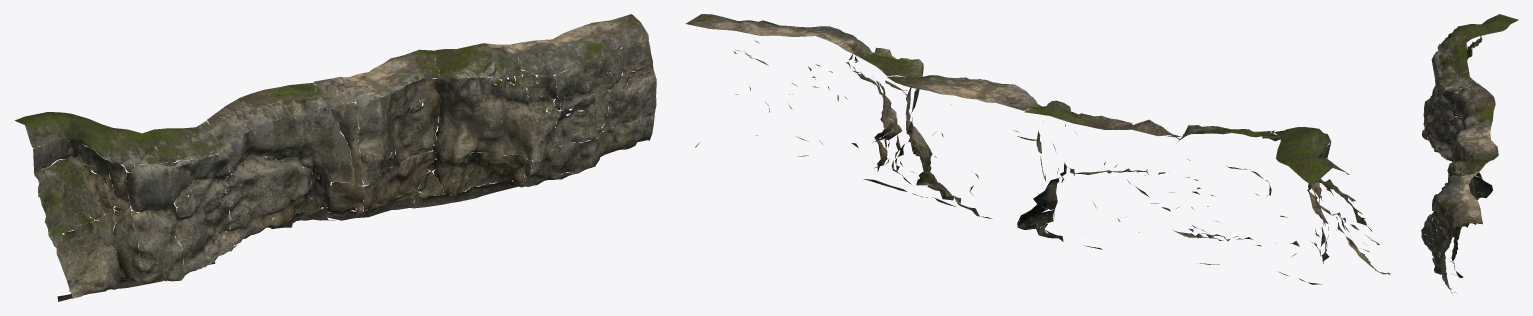
File: coastal-cliff-02.glb
3 views of the same model, side by side, from view 1: azimuth 30°, elevation 25°; view 2: azimuth 150°, elevation 25°; view 3: azimuth 270°, elevation 25° (orthographic). The views are drawn at different scales.
Visible parts, largest first — view 1: coastal_cliff_02; view 2: coastal_cliff_02; view 3: coastal_cliff_02.
Part boxes in pixels (left/top/right/bottom): coastal_cliff_02: left=15, top=14, right=656, bottom=301; coastal_cliff_02: left=685, top=14, right=1390, bottom=284; coastal_cliff_02: left=1421, top=14, right=1518, bottom=294.
Bounding box in the file's own units: 40.94 × 10.04 × 8.63.
Materials: 1 (1 with a texture image).
